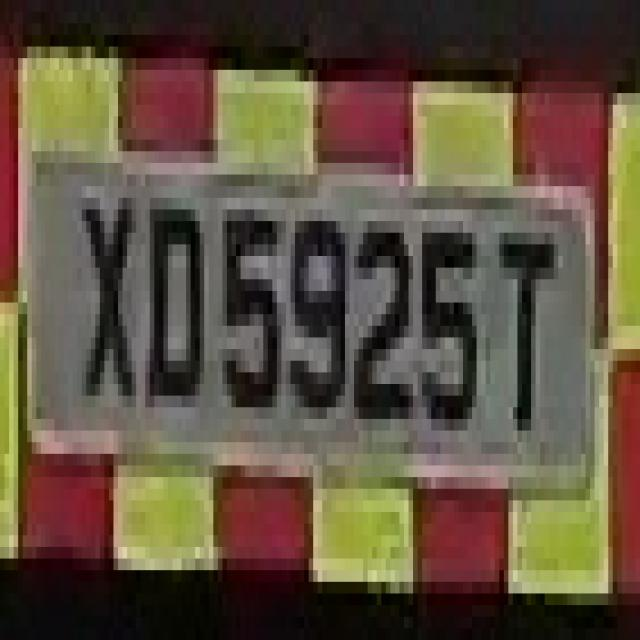2: (340, 175, 418, 442)
5: (408, 198, 486, 489), (204, 174, 282, 419)
9: (286, 186, 349, 431)
D: (136, 151, 209, 442)
T: (477, 174, 562, 466)
X: (68, 116, 136, 454)
